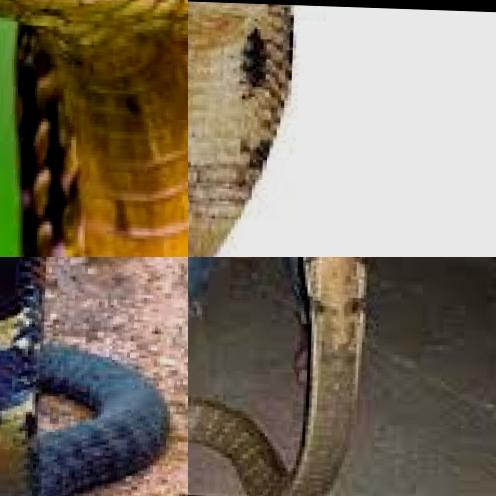snake: (188, 0, 496, 257), (188, 257, 391, 496), (0, 0, 188, 257), (0, 257, 184, 496)
